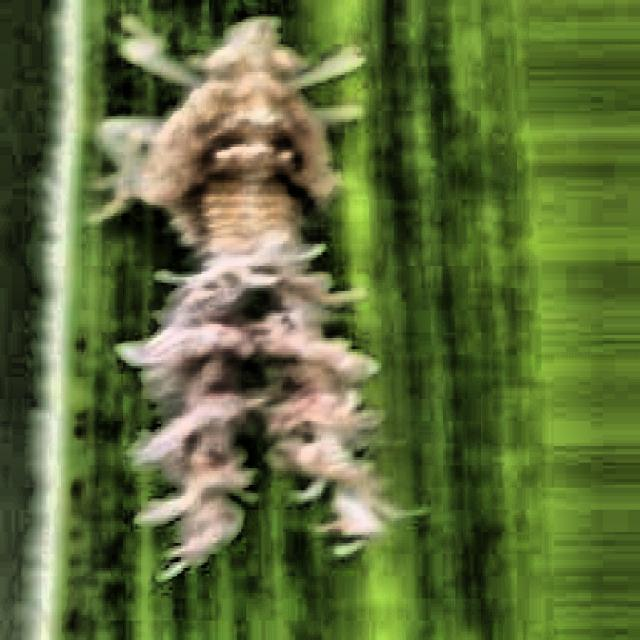Pyrilla-perpusilla: (97, 21, 413, 623)
